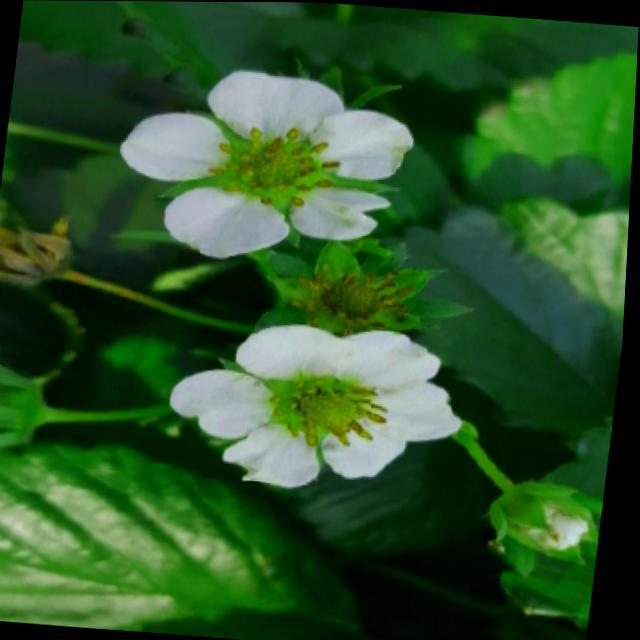Blossom Blight: (202, 121, 345, 216), (265, 369, 394, 452), (301, 263, 417, 334)
